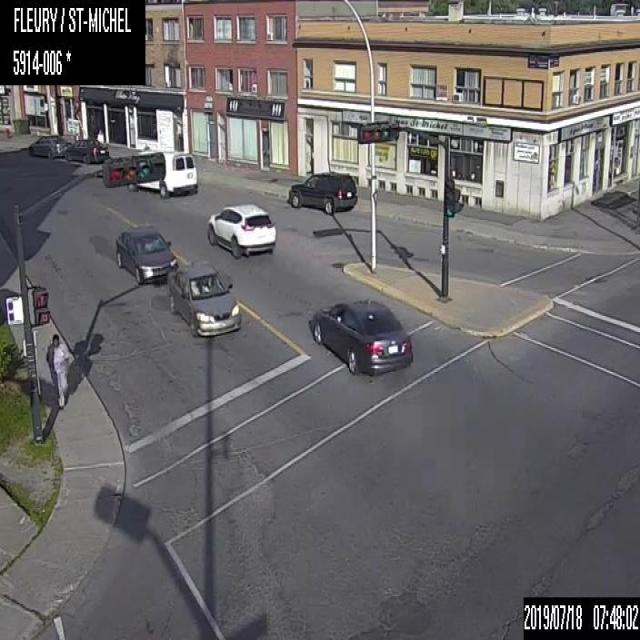pedestrian: (44, 334, 66, 406), (96, 127, 104, 141)
vehicle: (308, 294, 413, 374), (170, 266, 239, 339), (206, 200, 274, 259), (128, 145, 197, 200), (114, 224, 176, 285), (286, 168, 358, 215), (65, 130, 108, 162), (26, 132, 67, 156)
